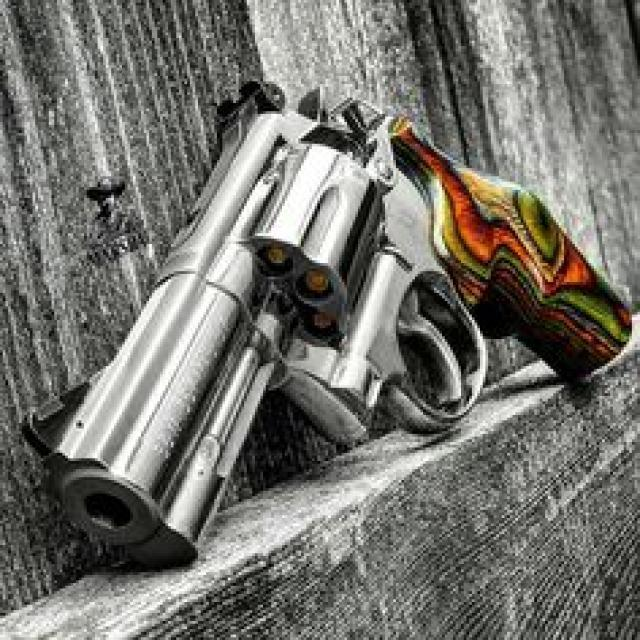revolver: (26, 58, 637, 569)
